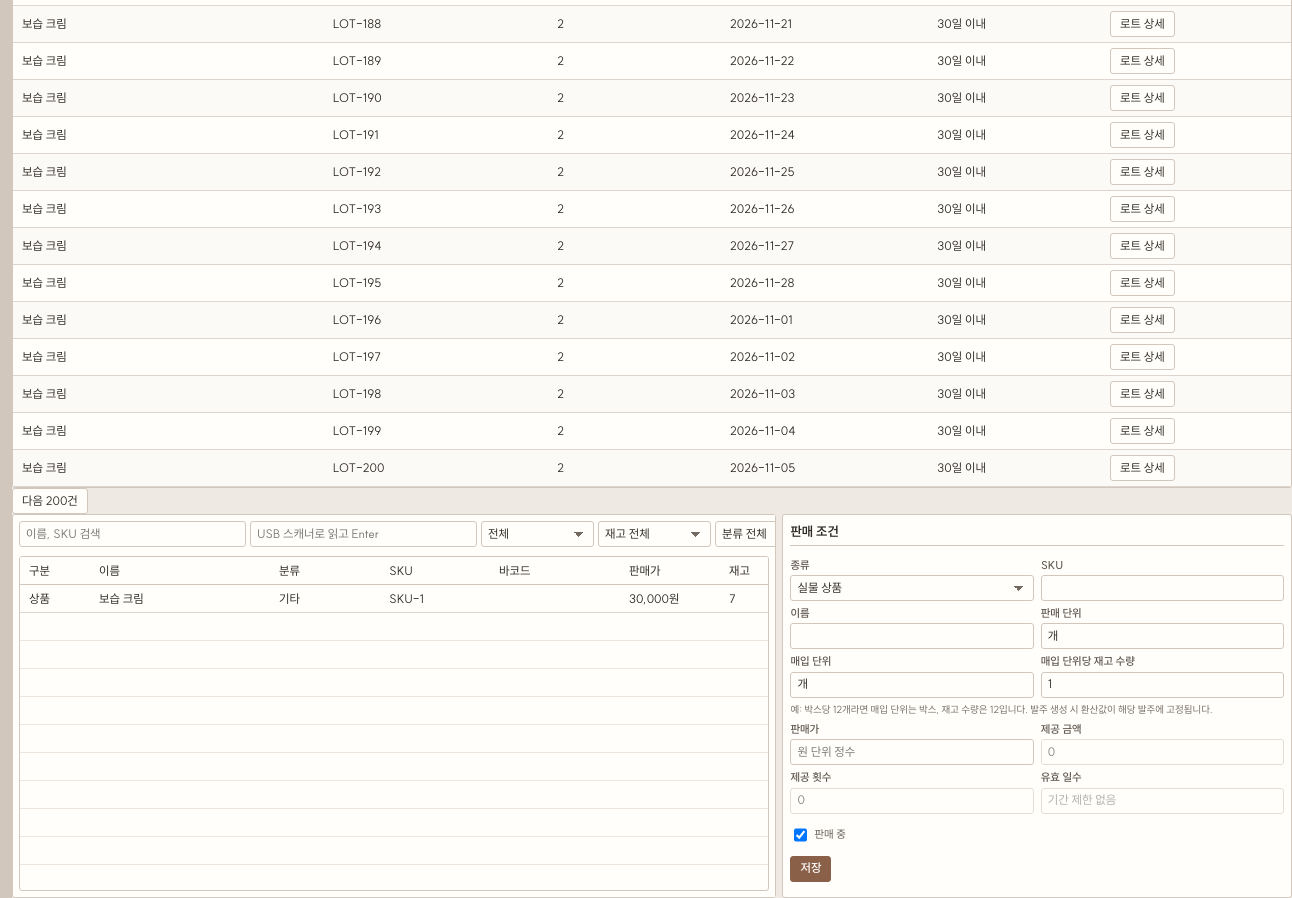
Test: InventoryPage › 유통기한 알림이 한 페이지를 채우면 다음 페이지를 이어 붙인다
(page scrolled)
Expected: the text "LOT-200" is shown, top-left (324, 450), bottom-right (548, 488)
Click the button "다음 200건": {"x": 50, "y": 502} top-left (12, 488), bottom-right (88, 514)
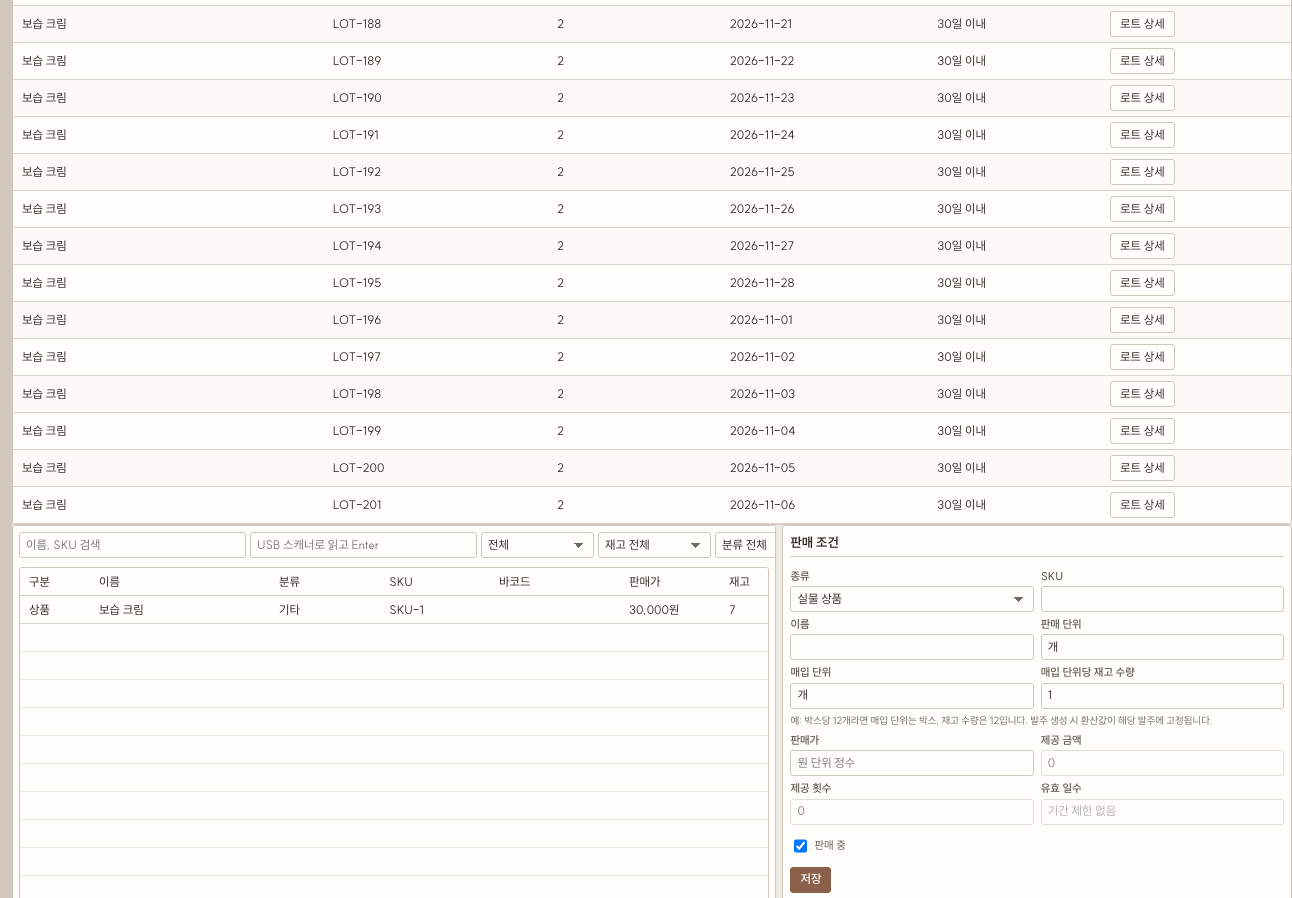
Now the text "LOT-201" is shown, box top-left (324, 488), bottom-right (548, 524)
